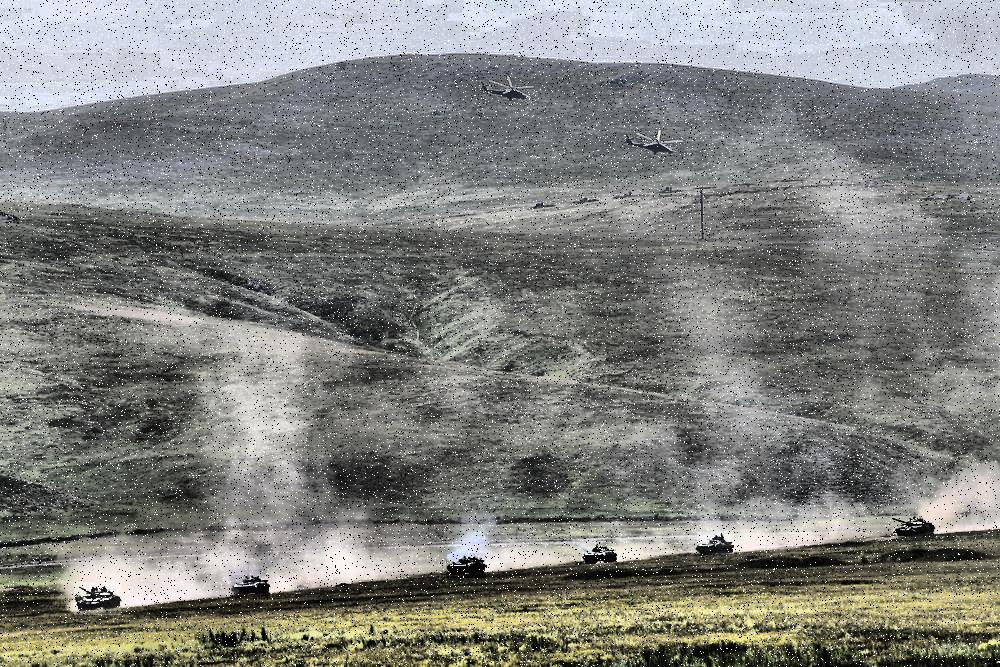military-vehicle: (74, 583, 121, 616), (447, 553, 487, 578), (891, 517, 934, 539), (231, 576, 270, 600), (697, 532, 734, 554), (582, 544, 616, 566)
